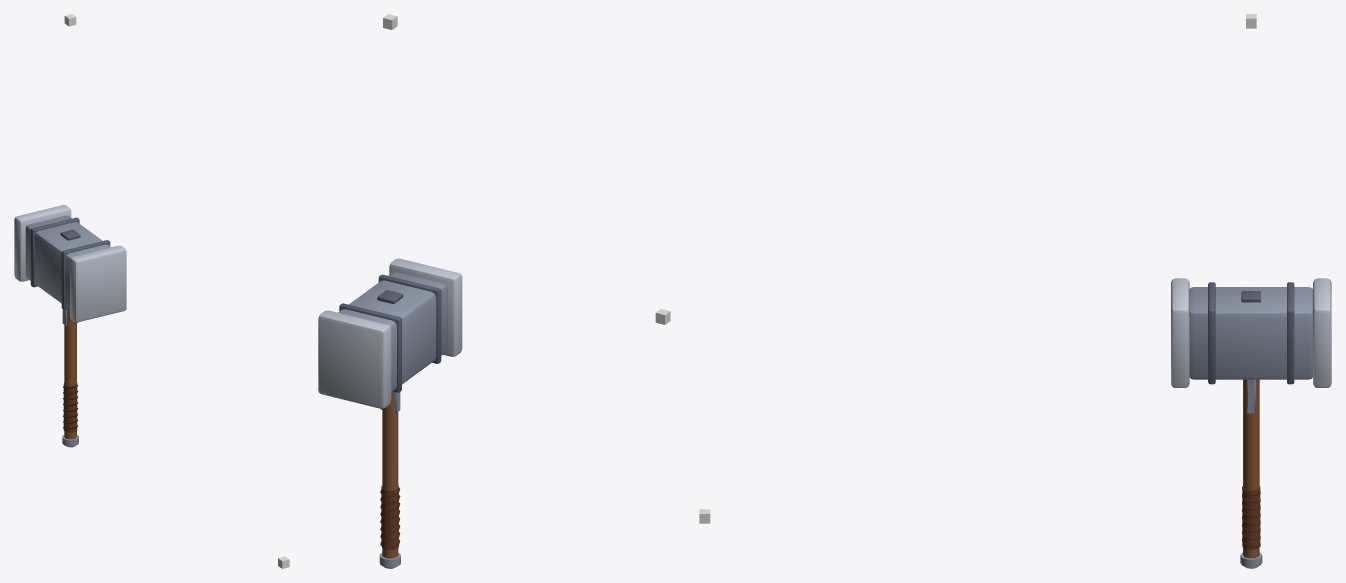
Rendered from Hammer.fbx.
3 views of the same model, side by side, from view 1: azimuth 30°, elevation 25°; view 2: azimuth 150°, elevation 25°; view 3: azimuth 270°, elevation 25° (orthographic). The views are drawn at different scales.
Visible parts, largest first — view 1: Body; view 2: Body; view 3: Body.
Part boxes in pixels (box(x1,y1,x2,y2)): Body: box(14, 205, 126, 447); Body: box(318, 258, 462, 568); Body: box(1171, 278, 1331, 568).
Size of the model in its own units: 1.42 by 11.13 by 11.57.
1 material, 1 textured.
